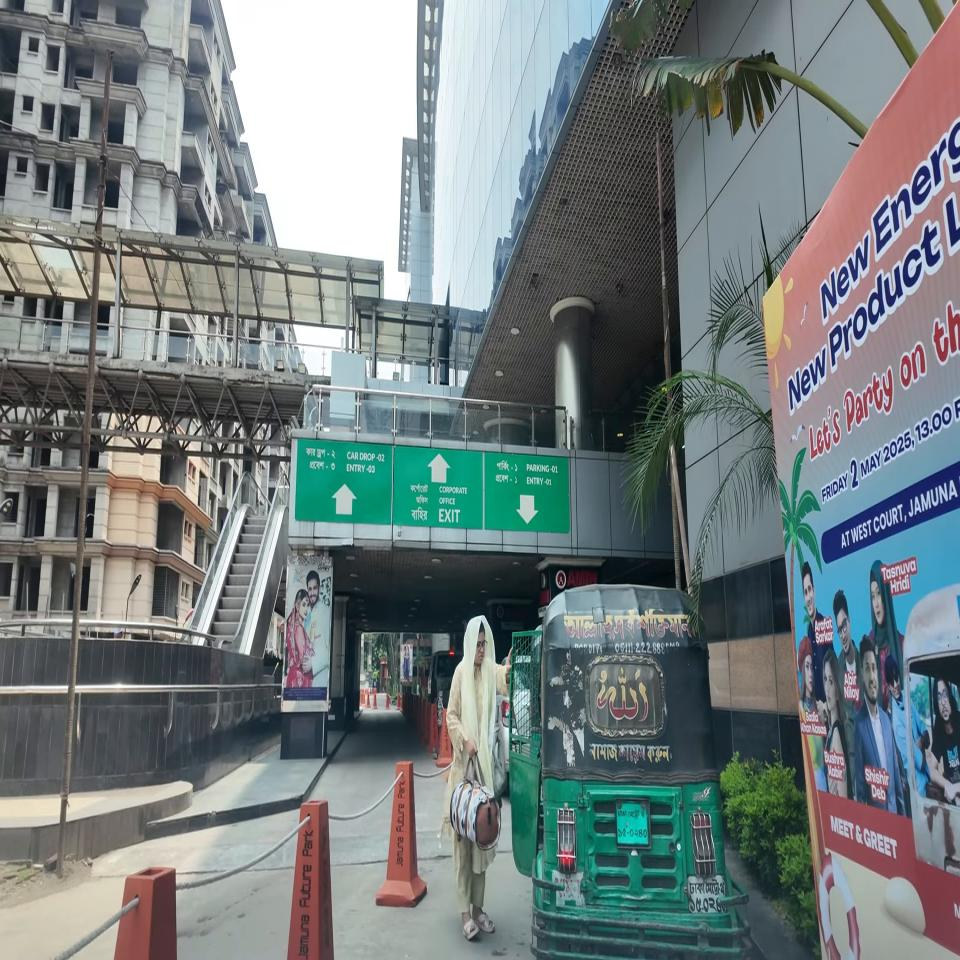person: (442, 615, 512, 941)
